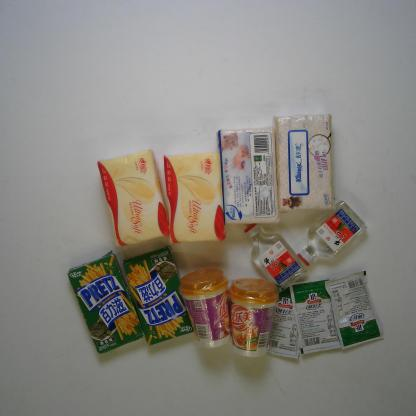Alcohol: (291, 200, 371, 273), (240, 219, 307, 288)
Dessert: (66, 250, 146, 360), (115, 242, 195, 348)
Instant Drink: (220, 276, 282, 359), (175, 267, 234, 349)
Seasoner: (319, 268, 386, 350), (288, 276, 346, 359), (261, 282, 304, 362)
Tissue: (91, 144, 177, 249), (267, 107, 340, 214), (213, 121, 280, 230), (158, 148, 228, 244)
